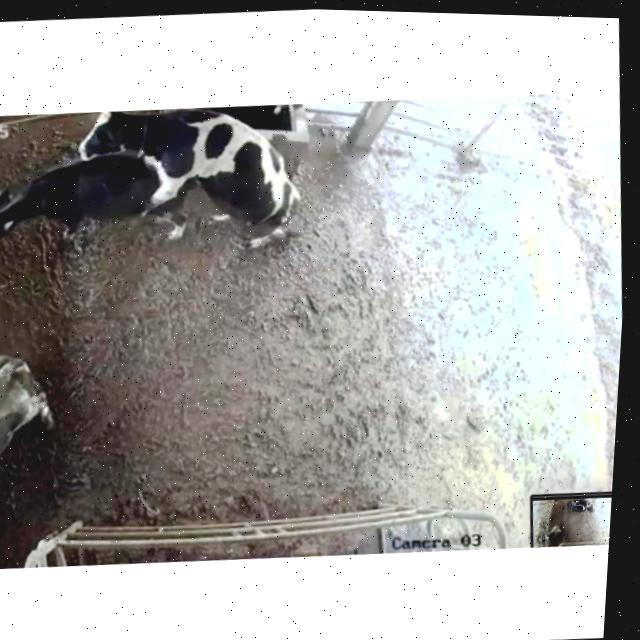ride: (63, 95, 322, 277)
